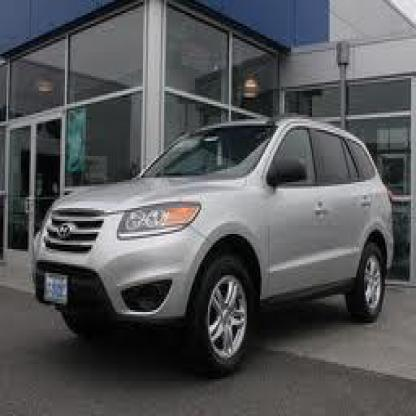car: (29, 115, 396, 379)
